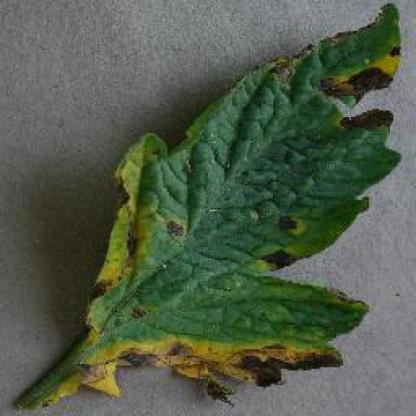Tomato_Blight: (21, 0, 402, 406)
